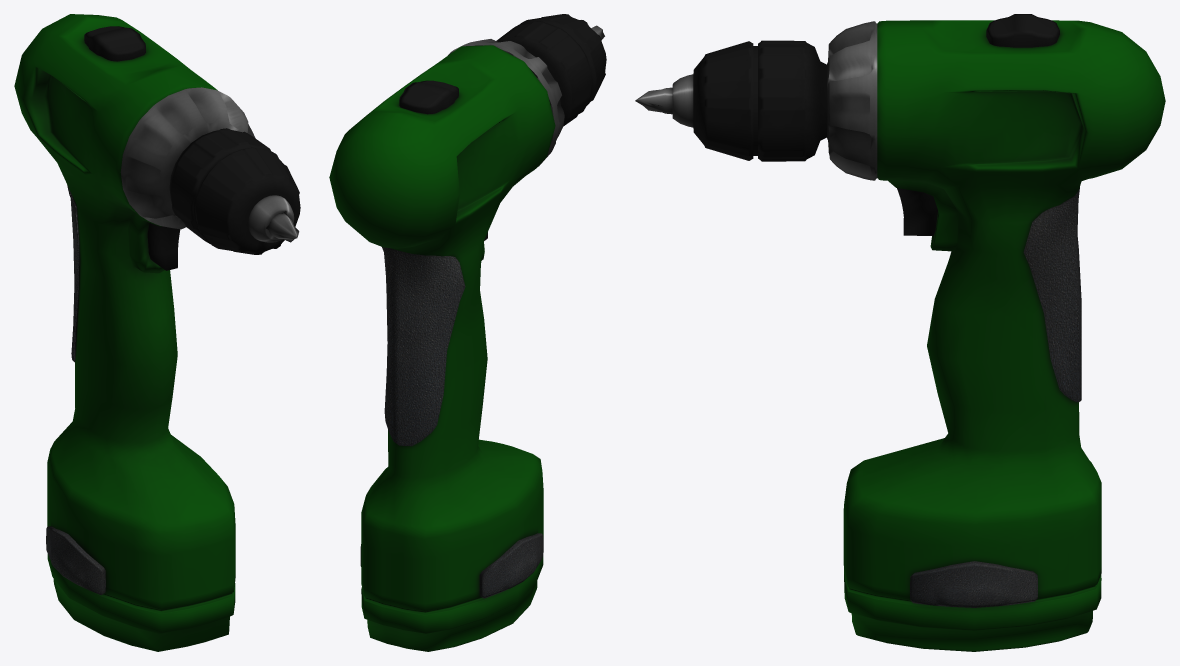
Rendered from screwDriver.fbx.
3 renders of one model, left to right at view 1: azimuth 30°, elevation 25°; view 2: azimuth 150°, elevation 25°; view 3: azimuth 270°, elevation 25°, orthographic. The views are drawn at different scales.
Visible parts, largest first — view 1: machine, front; view 2: machine; view 3: machine.
Boxes of the visible parts, <box> form: machine: <box>14,14,300,651</box>; front: <box>266,213,299,242</box>; machine: <box>329,14,606,651</box>; machine: <box>672,14,1165,651</box>.
Bounding box in the file's own units: 6.88 × 23.23 × 18.75.
